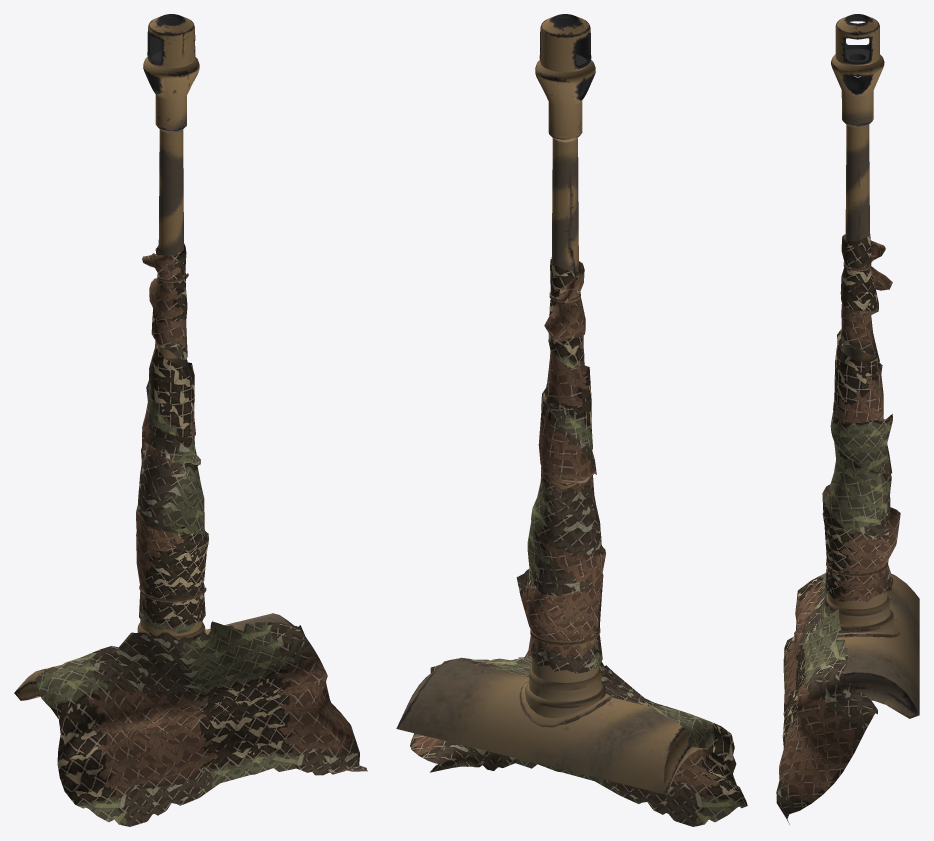
The model's file is Gun_07.glb.
The picture shows the model from 3 angles, left to right: view 1: azimuth 30°, elevation 25°; view 2: azimuth 150°, elevation 25°; view 3: azimuth 270°, elevation 25°; orthographic projection. The views are drawn at different scales.
Parts seen in each view (by area): view 1: set_0_group_1, set_0_group_0; view 2: set_0_group_1, set_0_group_0; view 3: set_0_group_1, set_0_group_0.
Part boxes in pixels (box(x1,y1,x2,y2)): set_0_group_1: box(35, 243, 367, 826); set_0_group_0: box(14, 14, 294, 700); set_0_group_1: box(410, 259, 747, 826); set_0_group_0: box(396, 14, 707, 794); set_0_group_1: box(776, 234, 900, 824); set_0_group_0: box(825, 14, 919, 718).
Size of the model in its own units: 1.84 by 4.51 by 0.798.
Materials: 2 (2 with a texture image).
